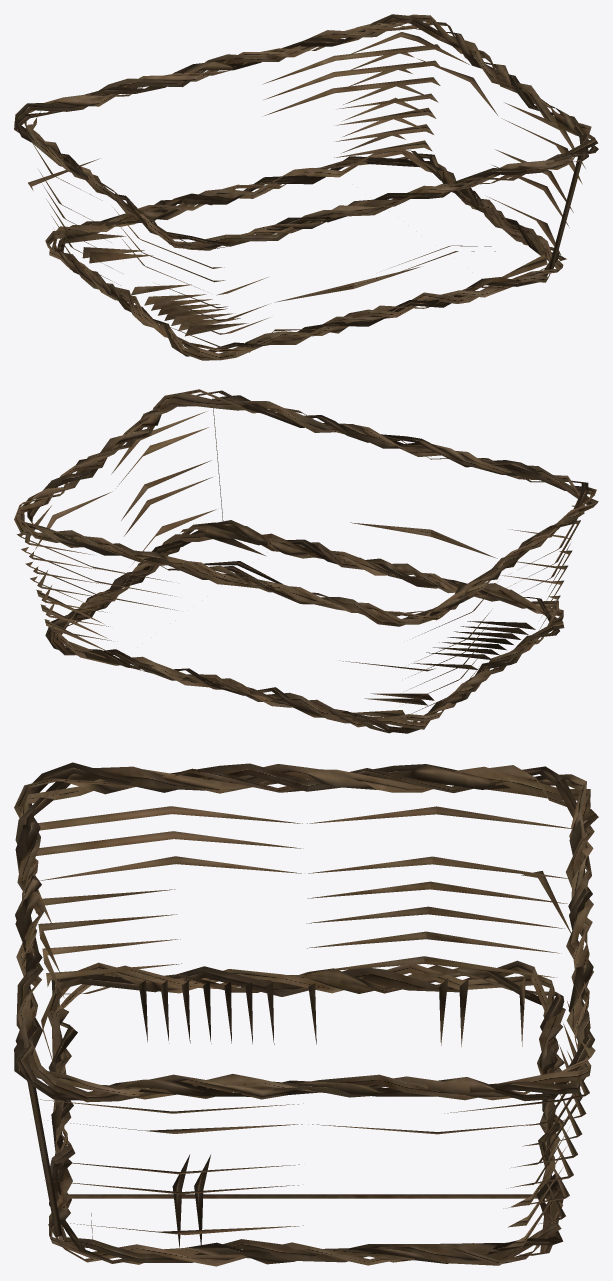
The picture shows the model from 3 angles, top to bottom: view 1: azimuth 30°, elevation 25°; view 2: azimuth 150°, elevation 25°; view 3: azimuth 270°, elevation 25°; orthographic projection. The views are drawn at different scales.
Parts seen in each view (by area): view 1: wicker_basket_01; view 2: wicker_basket_01; view 3: wicker_basket_01.
Part boxes in pixels (left/top/right/bottom): wicker_basket_01: left=14, top=14, right=598, bottom=360; wicker_basket_01: left=14, top=389, right=598, bottom=733; wicker_basket_01: left=14, top=762, right=598, bottom=1266.
Size of the model in its own units: 0.383 by 0.1174 by 0.2928.
Materials: 1 (1 with a texture image).
